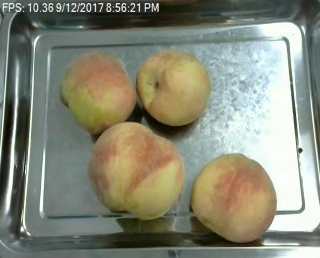Peach: (88, 122, 182, 219), (190, 152, 278, 243), (60, 48, 137, 134), (134, 48, 209, 126)
